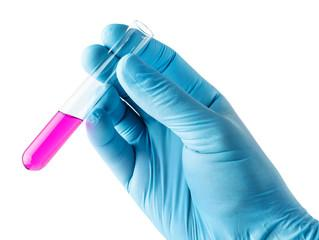Test tube: (2, 18, 153, 175)
